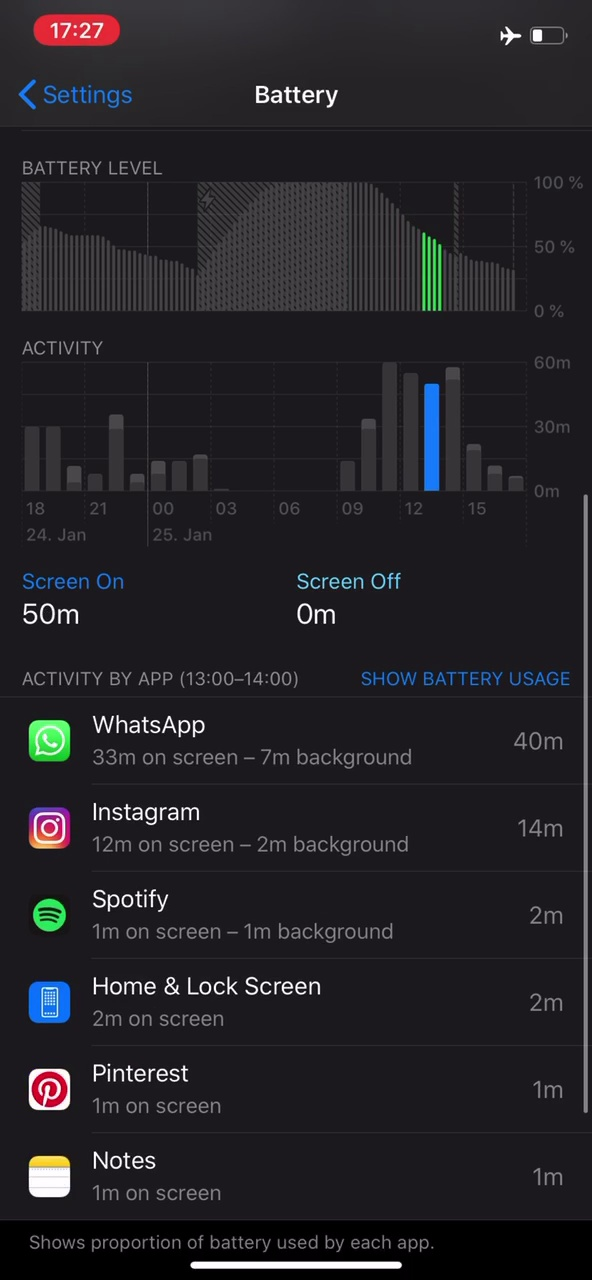activity: (7, 653, 318, 703)
app: (11, 708, 572, 778), (10, 786, 571, 856), (16, 881, 577, 951), (16, 975, 577, 1045), (13, 1061, 574, 1131), (15, 1143, 576, 1213)
